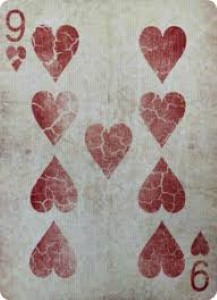NineOfHearts: (1, 1, 217, 297)
